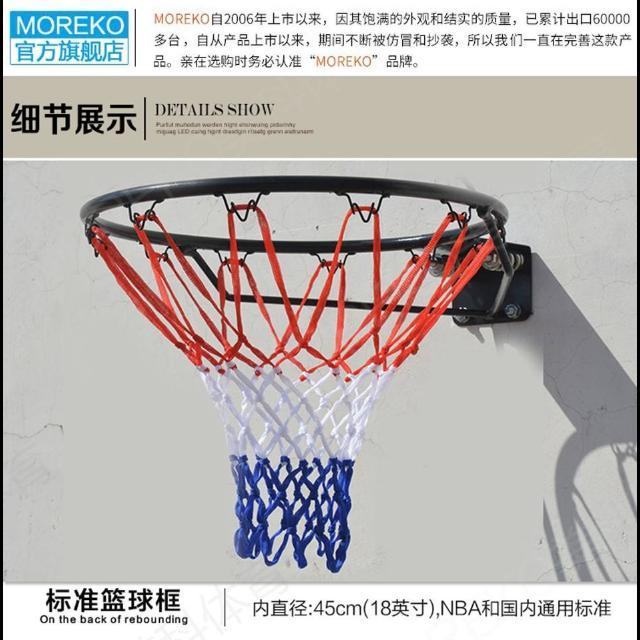rim: (82, 174, 510, 570)
